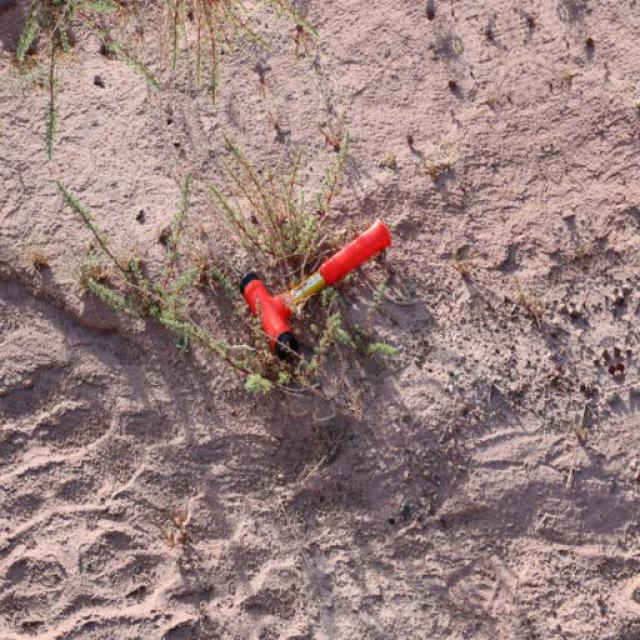mallet: (238, 216, 394, 362)
